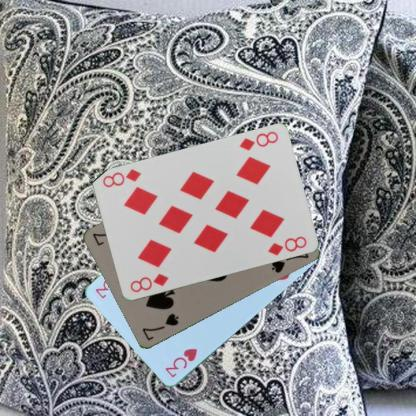3h: (162, 346, 199, 380)
7s: (140, 311, 180, 342)
8d: (127, 271, 170, 294), (236, 129, 279, 152)
